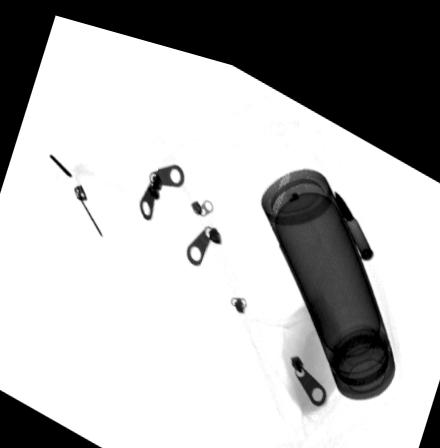Bullet: (333, 170, 375, 239)
